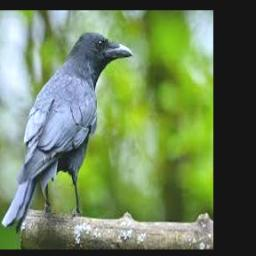Crow: (2, 32, 133, 233)
